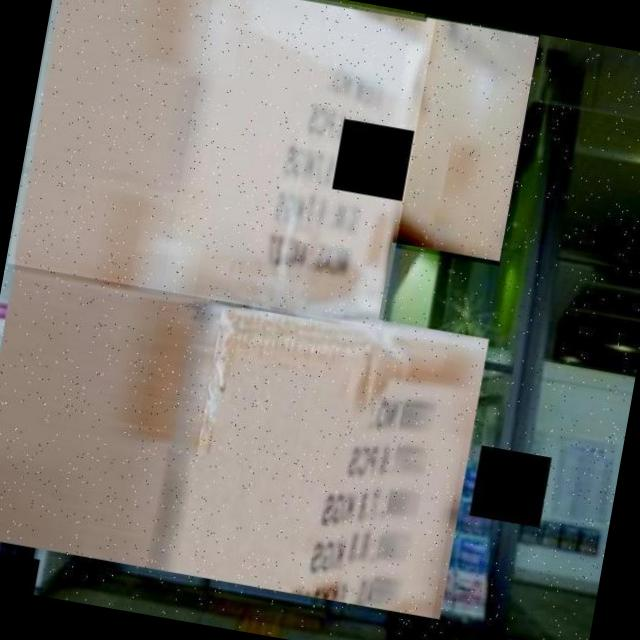box: (0, 250, 495, 625), (6, 0, 435, 329), (384, 13, 540, 266)
